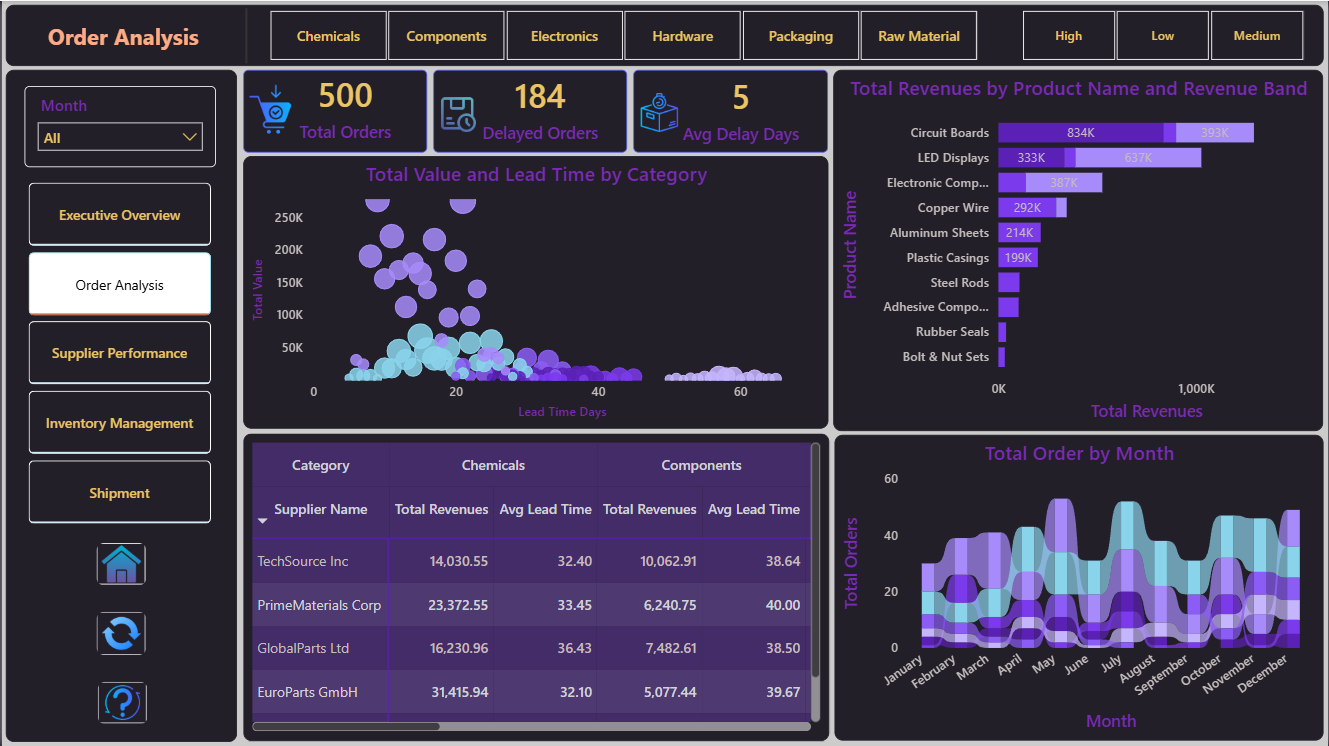

What the dashboard file says about the page in this screenshot:
{"tool":"powerbi","page":{"name":"Order Analysis","canvas":[1280,720],"ordinal":1},"visuals":[{"type":"shape","box":[3.6,66.4,223.2,649.1],"z":0},{"type":"shape","box":[3.6,3.6,1272,59],"z":1000},{"type":"shape","box":[228,6,15.7,54.3],"z":2000},{"type":"pageNavigator","box":[21.7,171.3,184.6,337],"z":3000},{"type":"card","fields":{"Values":["CountNonNull(Orders.Order_ID)"]},"box":[232.8,66.4,177.3,79.6],"z":4000},{"type":"card","fields":{"Values":["Orders.Delayed_Orders"]},"box":[416.2,66.4,187,79.6],"z":5000},{"type":"textbox","box":[31.4,7.2,166.5,47.1],"z":6000},{"type":"ribbonChart","title":"Total Order by Month","fields":{"Y":["CountNonNull(Orders.Order_ID)"],"Series":["Orders.Category"],"Category":["Orders.Order_Date.Variation.Date Hierarchy.Month"]},"box":[803.5,418.6,471.7,295.6],"z":7000},{"type":"scatterChart","title":"Total Value and Lead Time by Category","fields":{"X":["Orders.Lead_Time_Days"],"Y":["Sum(Orders.Total_Value)"],"Size":["CountNonNull(Orders.Quantity)"],"Series":["Orders.Category"]},"box":[232.8,149.6,564.6,263],"z":8000},{"type":"pivotTable","fields":{"Rows":["Orders.Supplier_Name"],"Columns":["Orders.Category"],"Values":["Sum(Orders.Total_Revenues)","Orders.Avg_Lead_Time"]},"box":[232.8,417.4,565.8,296.8],"z":9000},{"type":"slicer","fields":{"Values":["Orders.Order_Date.Variation.Date Hierarchy.Year","Orders.Order_Date.Variation.Date Hierarchy.Month"]},"box":[21.7,82,184.6,78.4],"z":10000},{"type":"barChart","title":"Total Revenues by Product Name and Revenue Band","fields":{"Category":["Orders.Product_Name"],"Y":["Sum(Orders.Total_Revenues)"],"Series":["Orders.revenue_band"]},"box":[802.3,66.4,472.9,348.7],"z":11000},{"type":"slicer","fields":{"Values":["Orders.revenue_band"]},"box":[959.1,2.4,320.9,61.5],"z":12000},{"type":"slicer","fields":{"Values":["Orders.Category"]},"box":[232.8,2.4,732.3,61.5],"z":13000},{"type":"card","fields":{"Values":["Orders.Avg_Delay_Days"]},"box":[609.3,66.4,188.2,79.6],"z":14000},{"type":"image","box":[232.8,80.8,51.9,47.1],"z":15000},{"type":"image","box":[417.4,90.5,45.8,38.6],"z":16000},{"type":"image","box":[612.9,84.5,43.4,45.8],"z":17000},{"type":"image","box":[90.5,588.7,49.5,43.4],"z":18000},{"type":"image","box":[91.7,656.3,49.5,42.2],"z":19000},{"type":"image","box":[90.5,522.4,49.5,42.2],"z":20000}]}

Visuals, with their boxes in screenshot pixels (x1, y1, x2, y2), scaled from the page's 1280x720 canvas onto the 1329x746 screenshot:
shape: (left=4, top=69, right=235, bottom=741)
shape: (left=4, top=4, right=1324, bottom=65)
shape: (left=237, top=6, right=253, bottom=62)
pageNavigator: (left=23, top=177, right=214, bottom=527)
card - CountNonNull(Orders.Order_ID): (left=242, top=69, right=426, bottom=151)
card - Orders.Delayed_Orders: (left=432, top=69, right=626, bottom=151)
textbox: (left=33, top=7, right=205, bottom=56)
"Total Order by Month" ribbonChart: (left=834, top=434, right=1324, bottom=740)
"Total Value and Lead Time by Category" scatterChart: (left=242, top=155, right=828, bottom=427)
pivotTable - Orders.Supplier_Name x Orders.Category: (left=242, top=432, right=829, bottom=740)
slicer - Orders.Order_Date.Variation.Date Hierarchy.Year x Orders.Order_Date.Variation.Date Hierarchy.Month: (left=23, top=85, right=214, bottom=166)
"Total Revenues by Product Name and Revenue Band" barChart: (left=833, top=69, right=1324, bottom=430)
slicer - Orders.revenue_band: (left=996, top=2, right=1328, bottom=66)
slicer - Orders.Category: (left=242, top=2, right=1002, bottom=66)
card - Orders.Avg_Delay_Days: (left=633, top=69, right=828, bottom=151)
image: (left=242, top=84, right=296, bottom=133)
image: (left=433, top=94, right=481, bottom=134)
image: (left=636, top=88, right=681, bottom=135)
image: (left=94, top=610, right=145, bottom=655)
image: (left=95, top=680, right=147, bottom=724)
image: (left=94, top=541, right=145, bottom=585)
